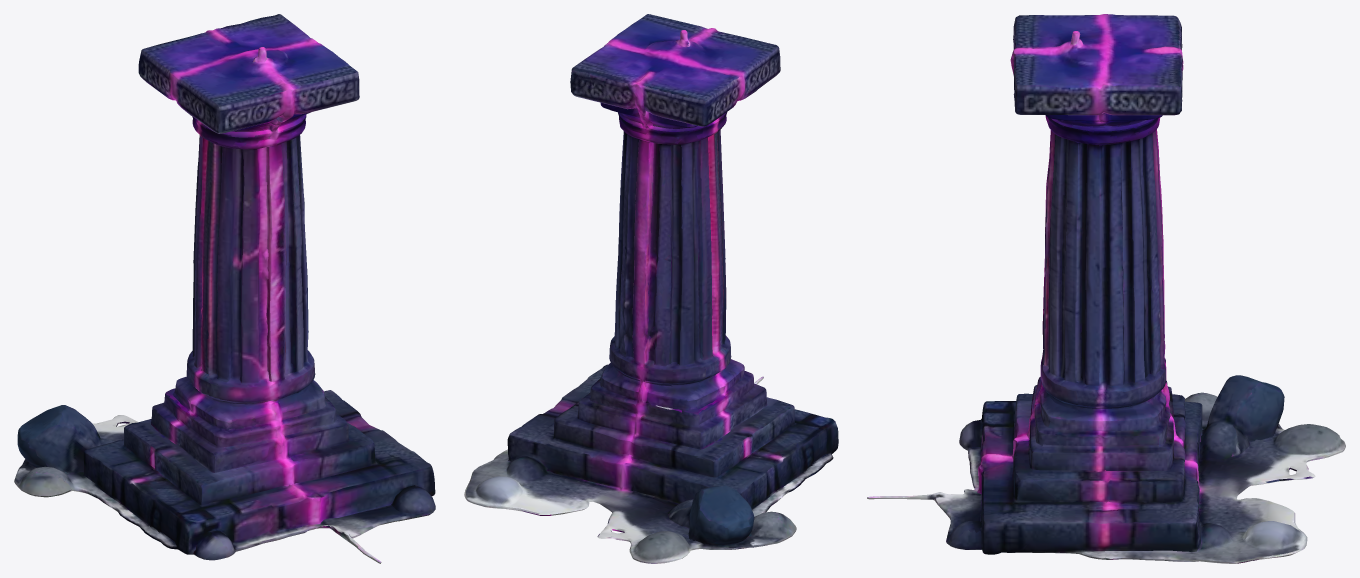
The model's file is support-column-generated-2026-05-17T18-45-11-443Z.low.glb.
The picture shows the model from 3 angles, left to right: view 1: azimuth 30°, elevation 25°; view 2: azimuth 150°, elevation 25°; view 3: azimuth 270°, elevation 25°; orthographic projection. The views are drawn at different scales.
Parts seen in each view (by area): view 1: temp_mesh.ply; view 2: temp_mesh.ply; view 3: temp_mesh.ply.
Boxes of the visible parts, box(x1,y1,x2,y2) form: temp_mesh.ply: box(14, 14, 435, 563); temp_mesh.ply: box(464, 14, 838, 563); temp_mesh.ply: box(867, 14, 1345, 563).
Bounding box in the file's own units: 1.5 × 1.97 × 1.86.
Materials: 1 (1 with a texture image).
